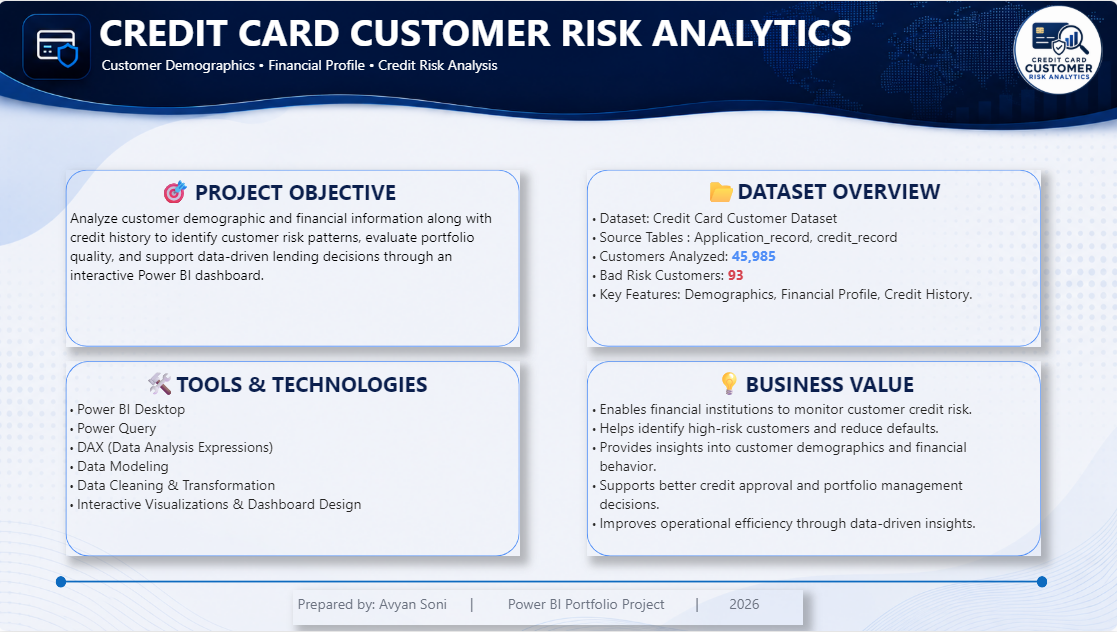

This screenshot's page, from the dashboard's own definition file:
{"tool":"powerbi","page":{"name":"Project Overview","canvas":[1280,720],"ordinal":2},"visuals":[{"type":"textbox","box":[87.8,0,1192.2,95.6],"z":0},{"type":"image","box":[1142.2,0,137.8,112.2],"z":1000},{"type":"shape","box":[76.7,192.2,518.9,202.2],"z":2000},{"type":"shape","box":[76.7,411.1,518.9,223.3],"z":3000},{"type":"shape","box":[672.2,411.1,518.9,223.3],"z":4000},{"type":"shape","box":[672.5,192.5,518.8,202.5],"z":5000},{"type":"textbox","box":[168.9,194.4,302.2,48.9],"z":6000},{"type":"textbox","box":[800,413.3,264.4,48.9],"z":7000},{"type":"textbox","box":[797.8,193.3,291.1,51.1],"z":8000},{"type":"textbox","box":[145.6,413.3,366.7,48.9],"z":9000},{"type":"textbox","box":[76.7,231.1,503.3,110],"z":9001},{"type":"textbox","box":[664.4,231.1,511.1,128.9],"z":9002},{"type":"textbox","box":[67.8,450,503.3,221.1],"z":9003},{"type":"textbox","box":[664.4,450,503.3,210],"z":9004},{"type":"shape","box":[76.7,645.6,1114.4,35.6],"z":9005},{"type":"shape","box":[1187.8,656.7,12.2,13.3],"z":9006},{"type":"shape","box":[65.6,656.7,12.2,13.3],"z":9007},{"type":"textbox","box":[336.7,672.2,583.3,40],"z":9008}]}

Visuals, with their boxes in screenshot pixels (x1, y1, x2, y2), scaled from the page's 1280x720 canvas onto the 1117x632 screenshot:
textbox: {"x1": 77, "y1": 0, "x2": 1116, "y2": 84}
image: {"x1": 997, "y1": 0, "x2": 1116, "y2": 98}
shape: {"x1": 67, "y1": 169, "x2": 520, "y2": 346}
shape: {"x1": 67, "y1": 361, "x2": 520, "y2": 557}
shape: {"x1": 587, "y1": 361, "x2": 1039, "y2": 557}
shape: {"x1": 587, "y1": 169, "x2": 1040, "y2": 347}
textbox: {"x1": 147, "y1": 171, "x2": 411, "y2": 214}
textbox: {"x1": 698, "y1": 363, "x2": 929, "y2": 406}
textbox: {"x1": 696, "y1": 170, "x2": 950, "y2": 215}
textbox: {"x1": 127, "y1": 363, "x2": 447, "y2": 406}
textbox: {"x1": 67, "y1": 203, "x2": 506, "y2": 299}
textbox: {"x1": 580, "y1": 203, "x2": 1026, "y2": 316}
textbox: {"x1": 59, "y1": 395, "x2": 498, "y2": 589}
textbox: {"x1": 580, "y1": 395, "x2": 1019, "y2": 579}
shape: {"x1": 67, "y1": 567, "x2": 1039, "y2": 598}
shape: {"x1": 1037, "y1": 576, "x2": 1047, "y2": 588}
shape: {"x1": 57, "y1": 576, "x2": 68, "y2": 588}
textbox: {"x1": 294, "y1": 590, "x2": 803, "y2": 625}
